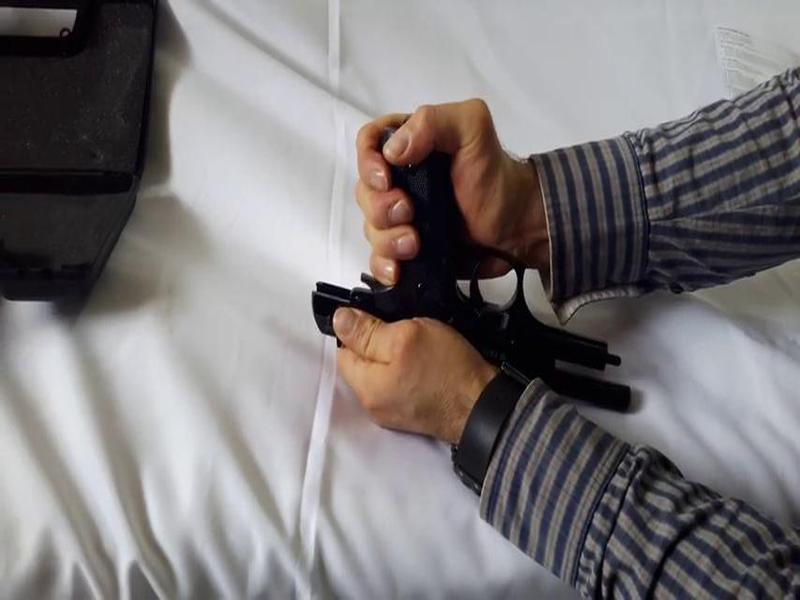Pistola: (289, 113, 639, 428)
